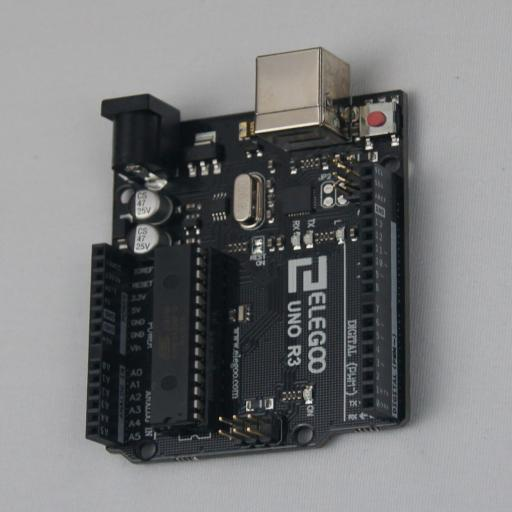Arduino Uno -Black-: (86, 47, 424, 464)
